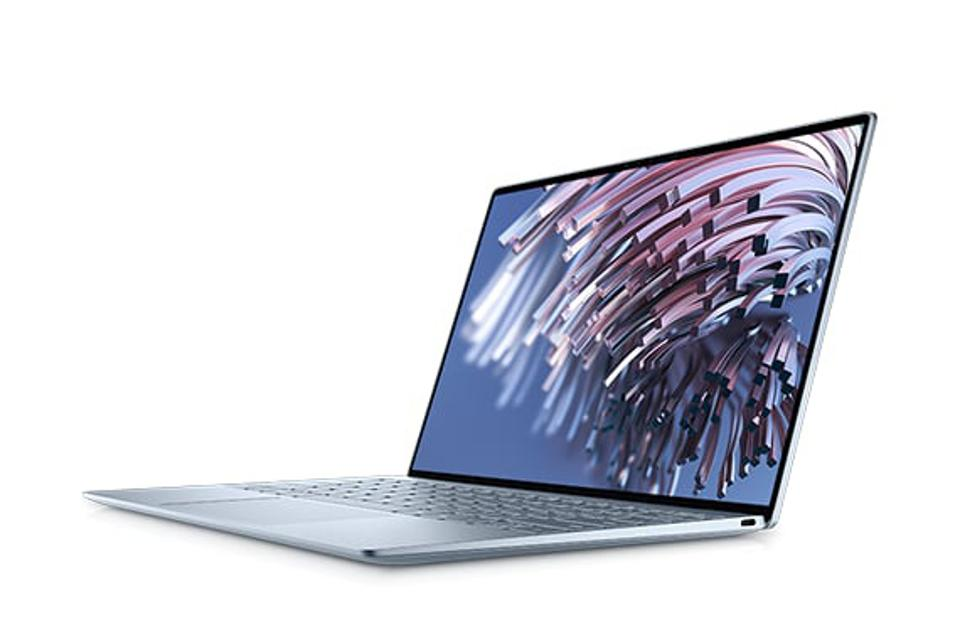laptop: (80, 95, 879, 568)
